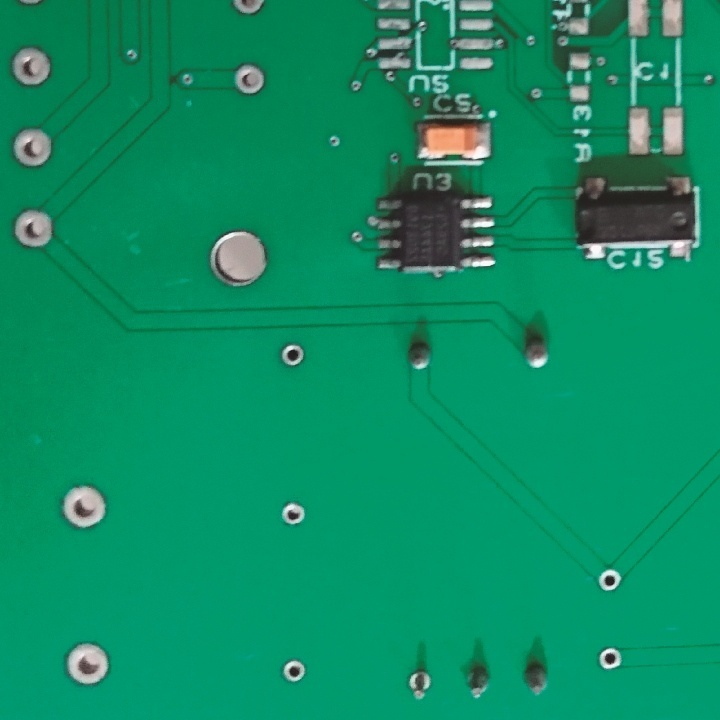F: (61, 639, 113, 689), (9, 207, 59, 250), (9, 44, 51, 95), (59, 483, 107, 526), (10, 125, 53, 168), (231, 59, 270, 102), (405, 666, 436, 701), (279, 338, 307, 372), (282, 658, 310, 686), (596, 567, 624, 595), (598, 646, 624, 673), (281, 498, 306, 526)
